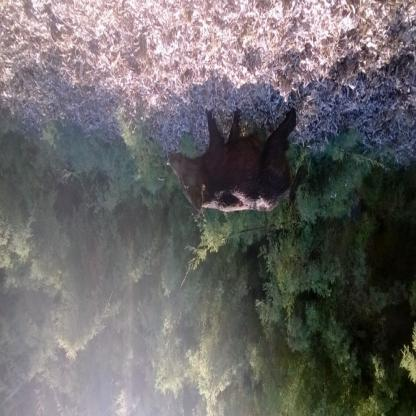boar: (165, 104, 298, 219)
